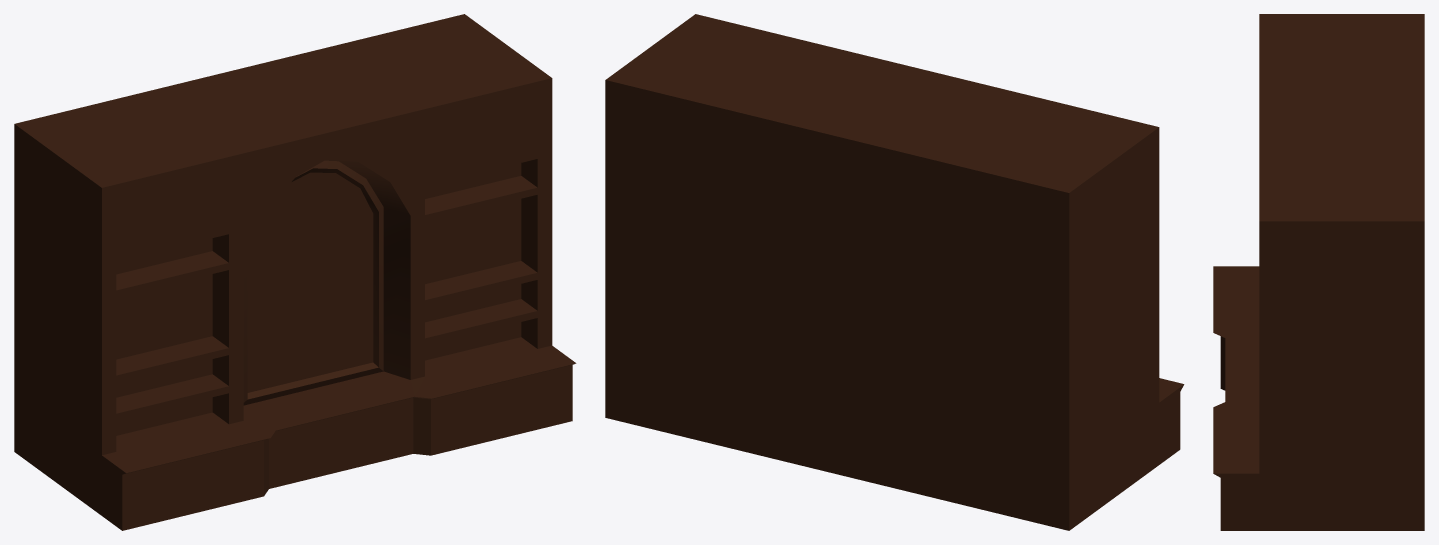
The model's file is F_bossromm_cabinet.fbx.
The picture shows the model from 3 angles, left to right: view 1: azimuth 30°, elevation 25°; view 2: azimuth 150°, elevation 25°; view 3: azimuth 270°, elevation 25°; orthographic projection. The views are drawn at different scales.
Visible parts, largest first — view 1: boss_cabinet; view 2: boss_cabinet; view 3: boss_cabinet.
Part boxes in pixels (bbox=[...]): boss_cabinet: bbox=[14, 14, 576, 530]; boss_cabinet: bbox=[605, 14, 1184, 530]; boss_cabinet: bbox=[1213, 14, 1424, 530].
Size of the model in its own units: 330 by 230 by 142.
